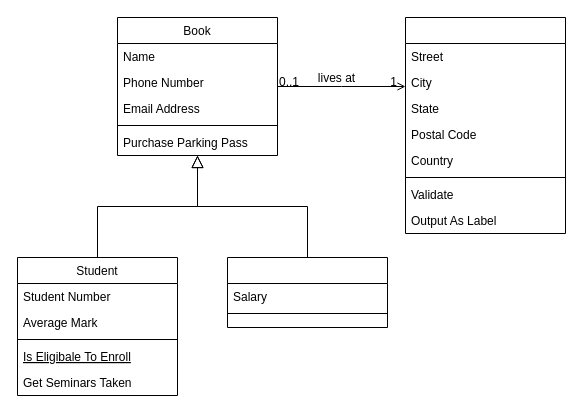
Some shapes in this 583 by 416 pixel diagram are drawn without their labels. Here are the shapes that lost their labels. From the top down, the box of each, then its label:
(404, 16, 566, 234): Address
(226, 256, 388, 328): Professor
